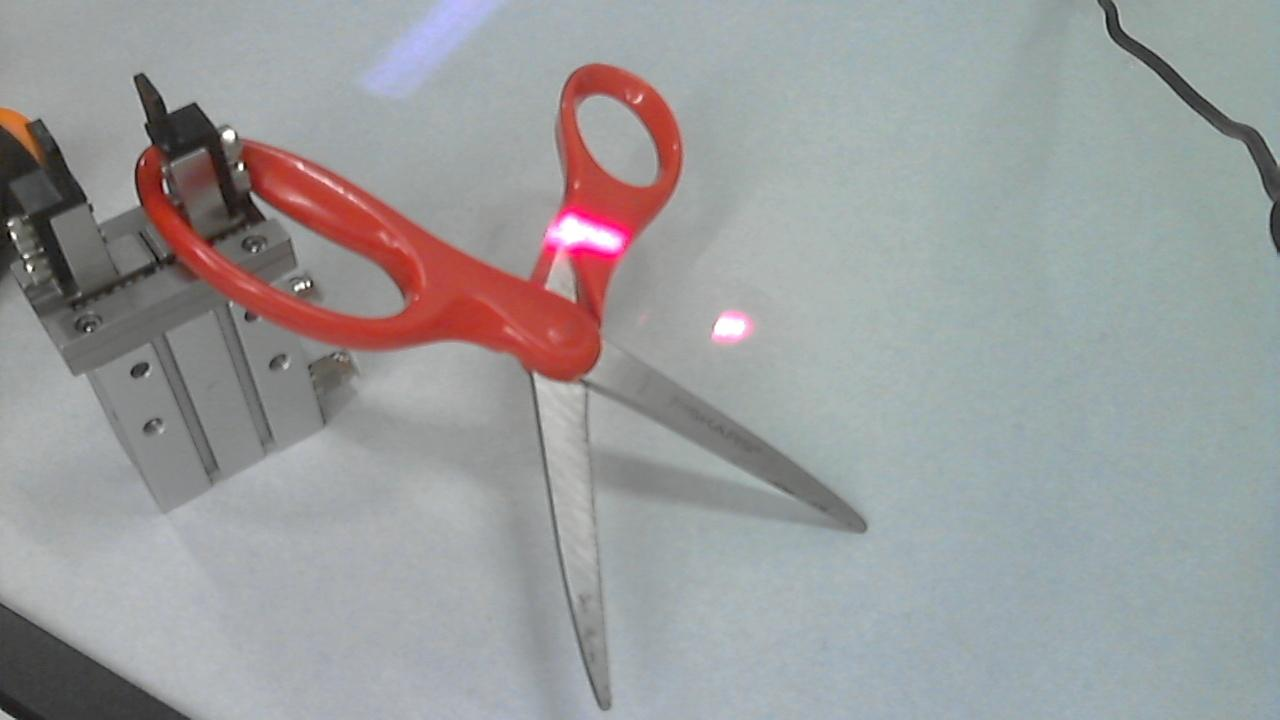Object scissors - Material plastic - Pdfname tYexGlkiIXWc: (527, 197, 658, 262)
